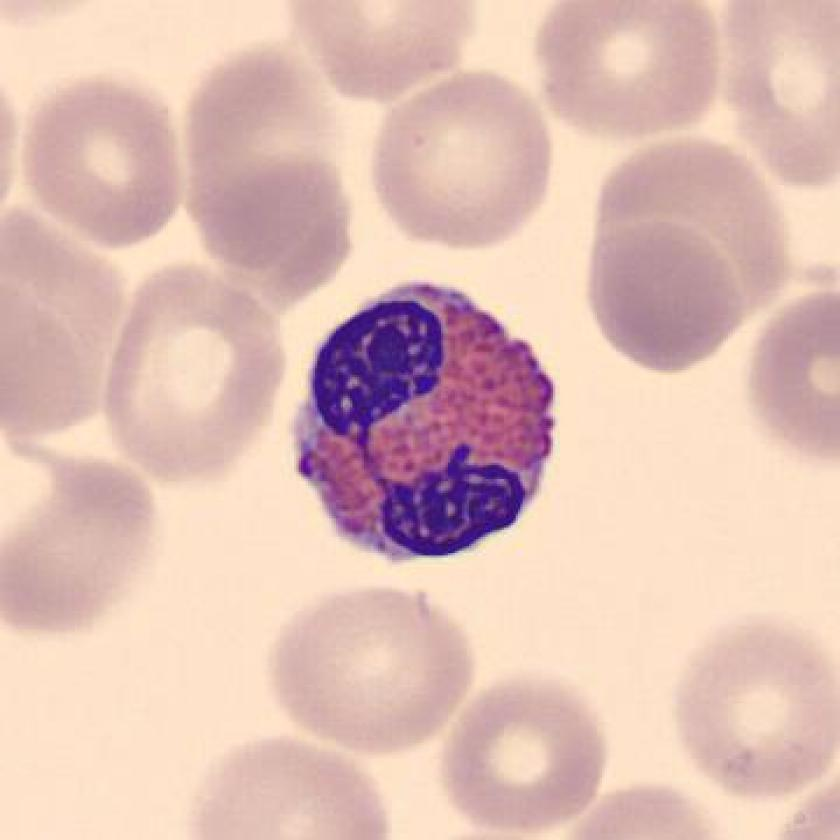eosinophil: (279, 269, 568, 575)
